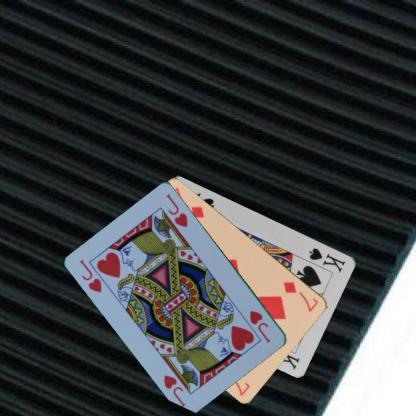7d: (281, 279, 320, 313)
Jh: (77, 257, 104, 294), (246, 308, 272, 344)
Ks: (306, 245, 347, 274)
